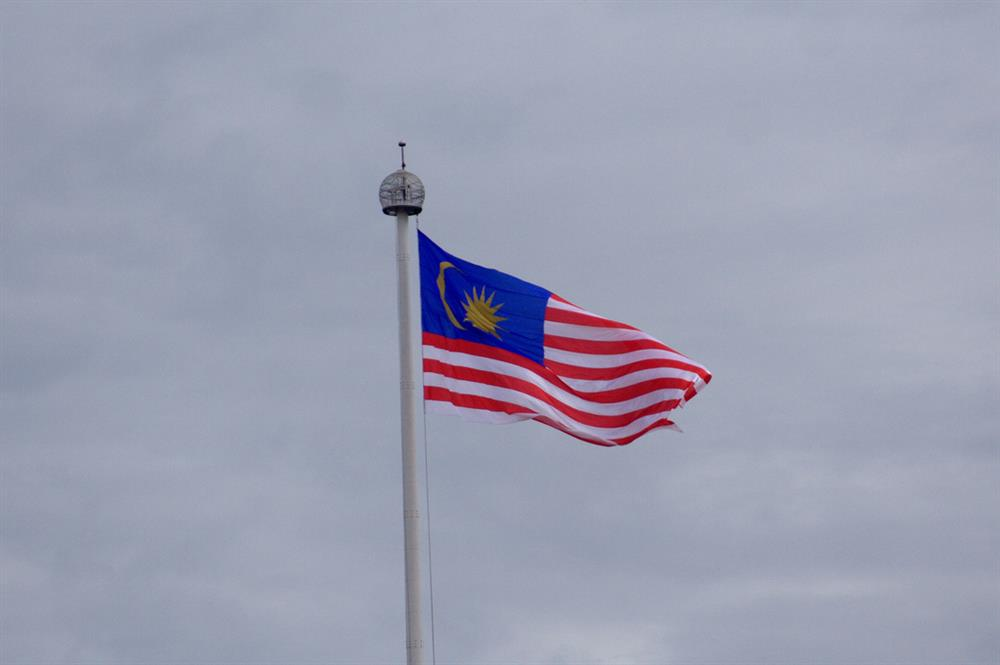Malaysia_flag: (415, 230, 711, 444)
